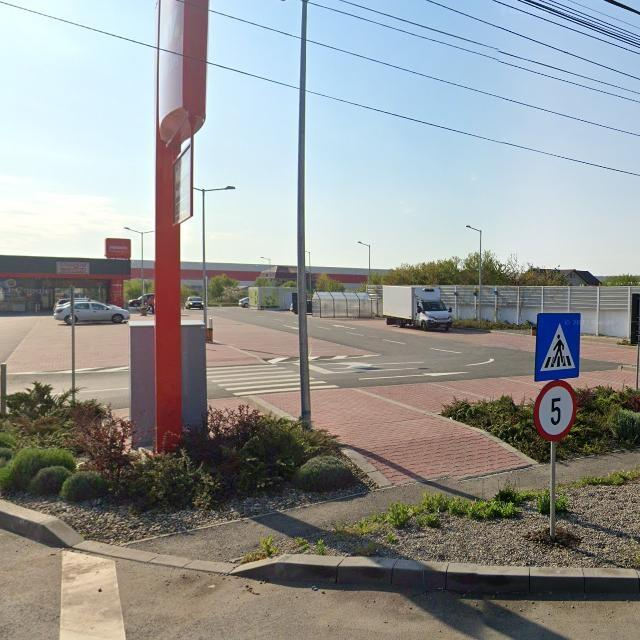info_crosswalk: (535, 313, 580, 380)
